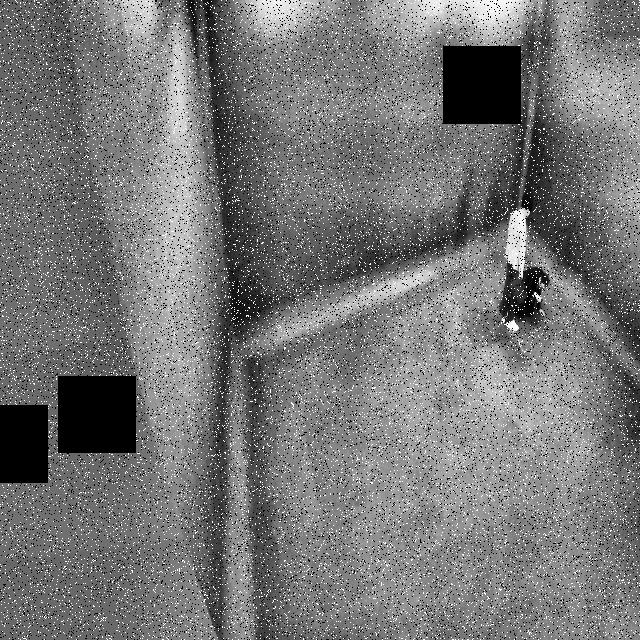assult: (500, 186, 552, 340)
